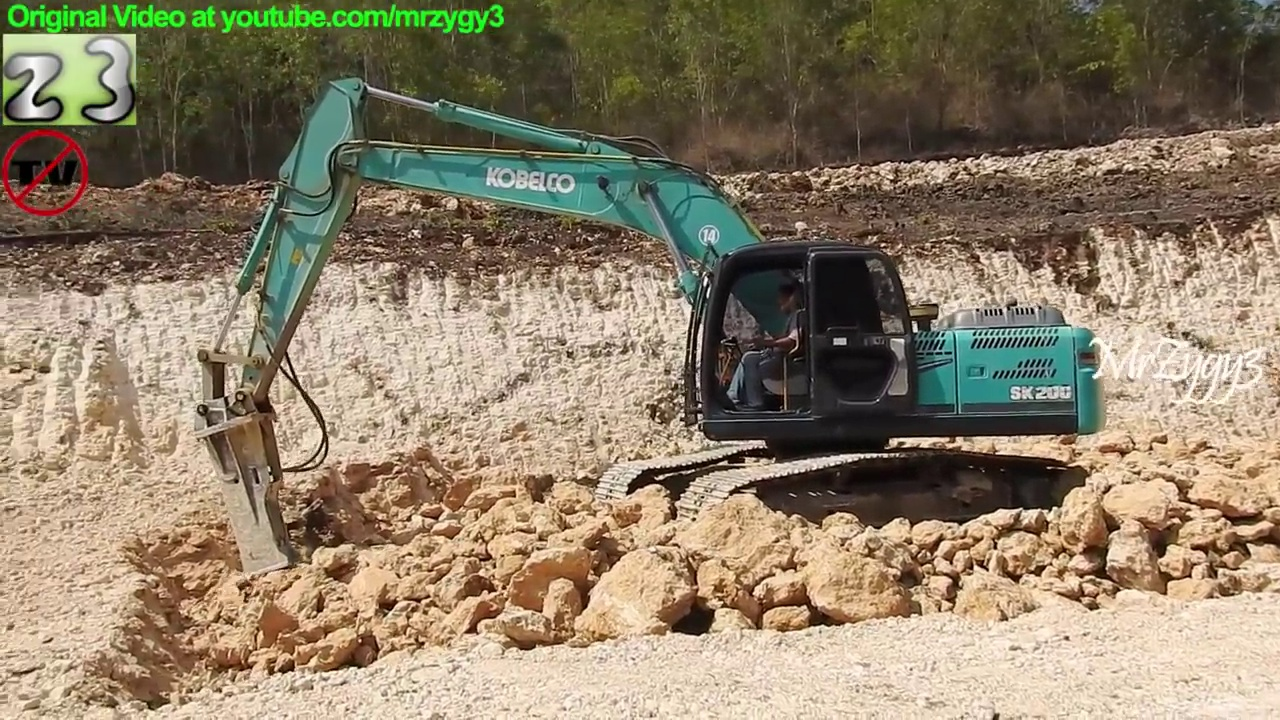excavator breaker: (188, 71, 1113, 586)
